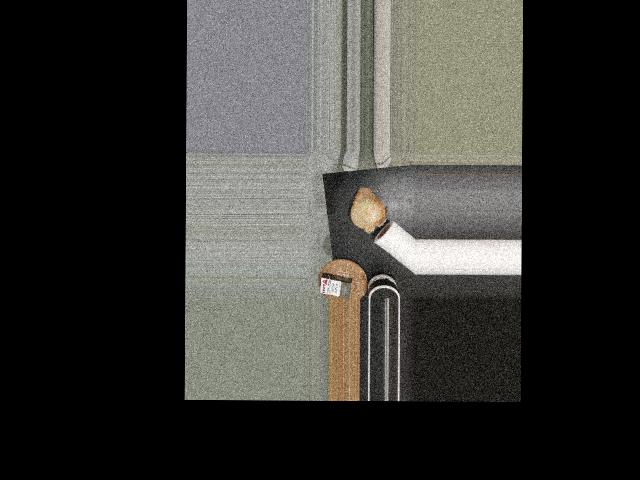onion: (348, 189, 383, 232)
